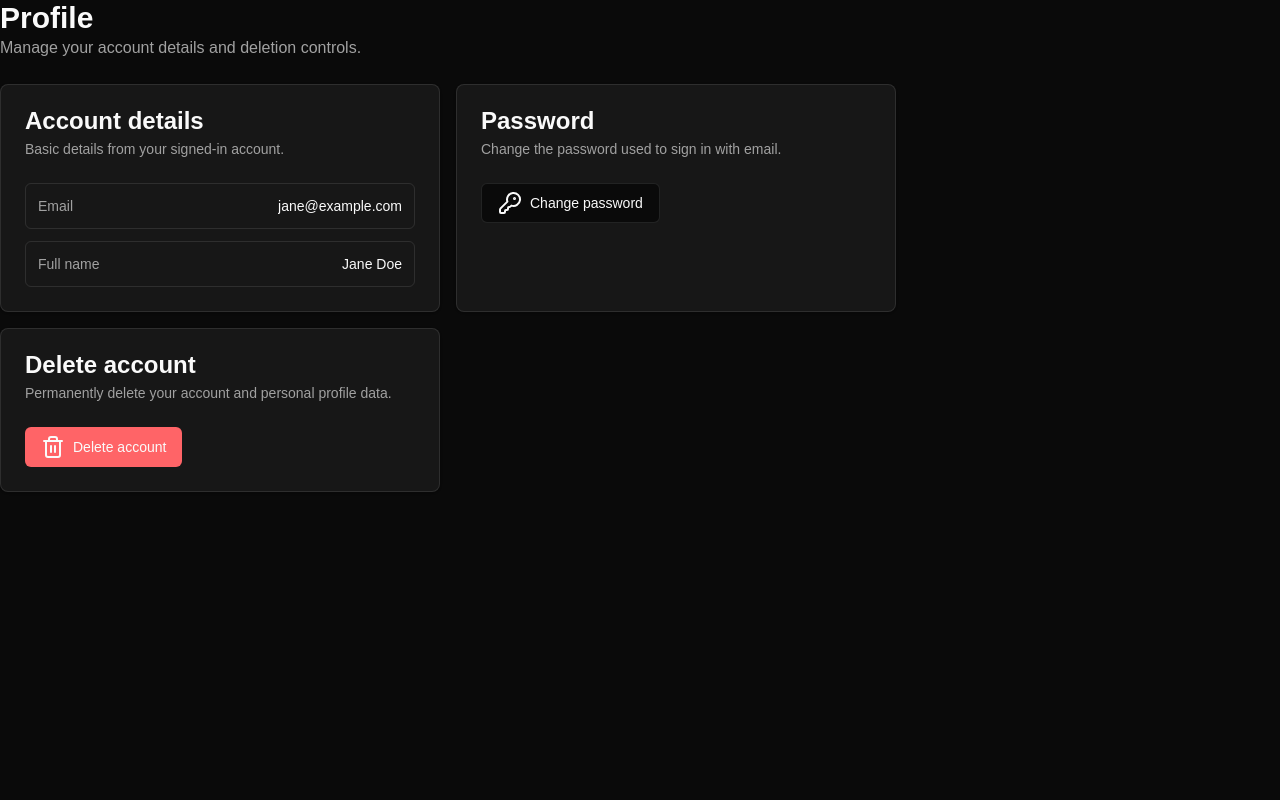
profile view › disables submit while deletion is pending
Step 1. Click the button "Delete account" → (104, 447), box [25, 427, 182, 467]
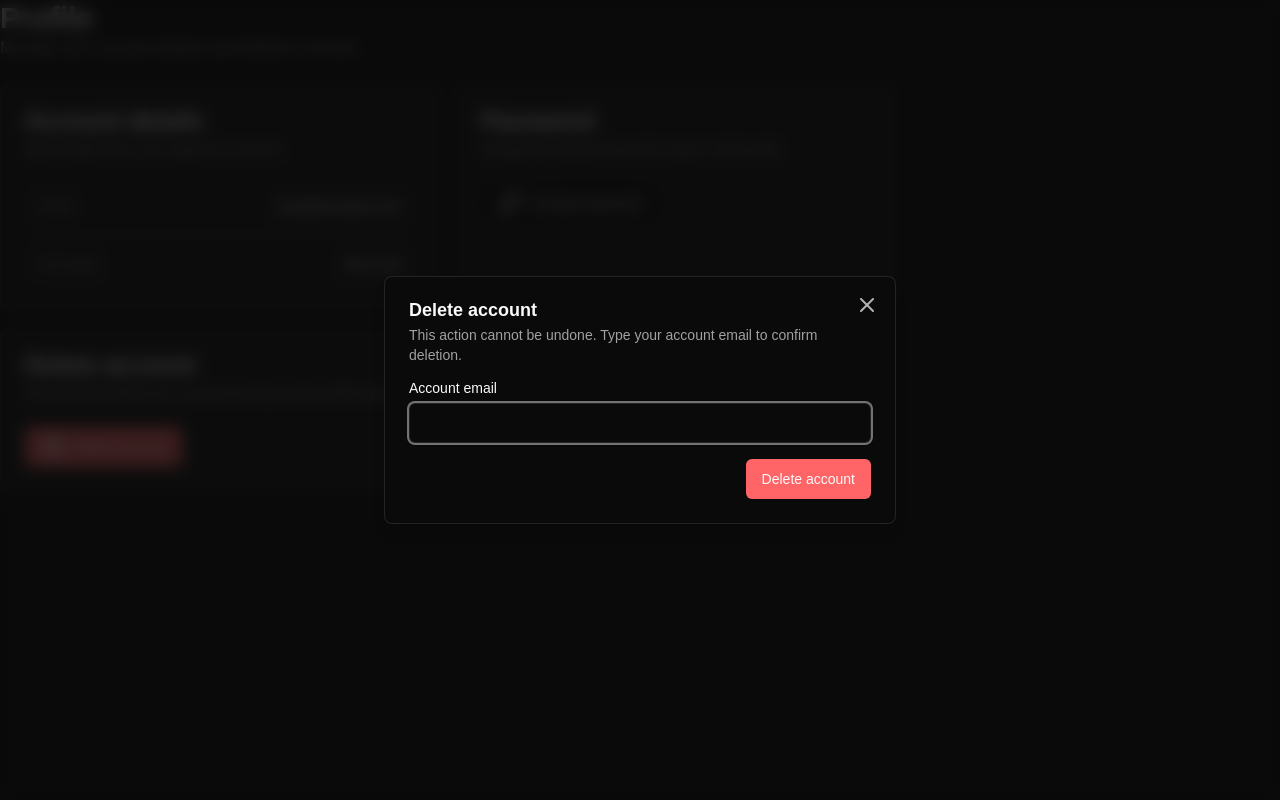
Step 2. Type "jane@example.com" into the field labelled "Account email" → (640, 423), box [409, 403, 871, 443]
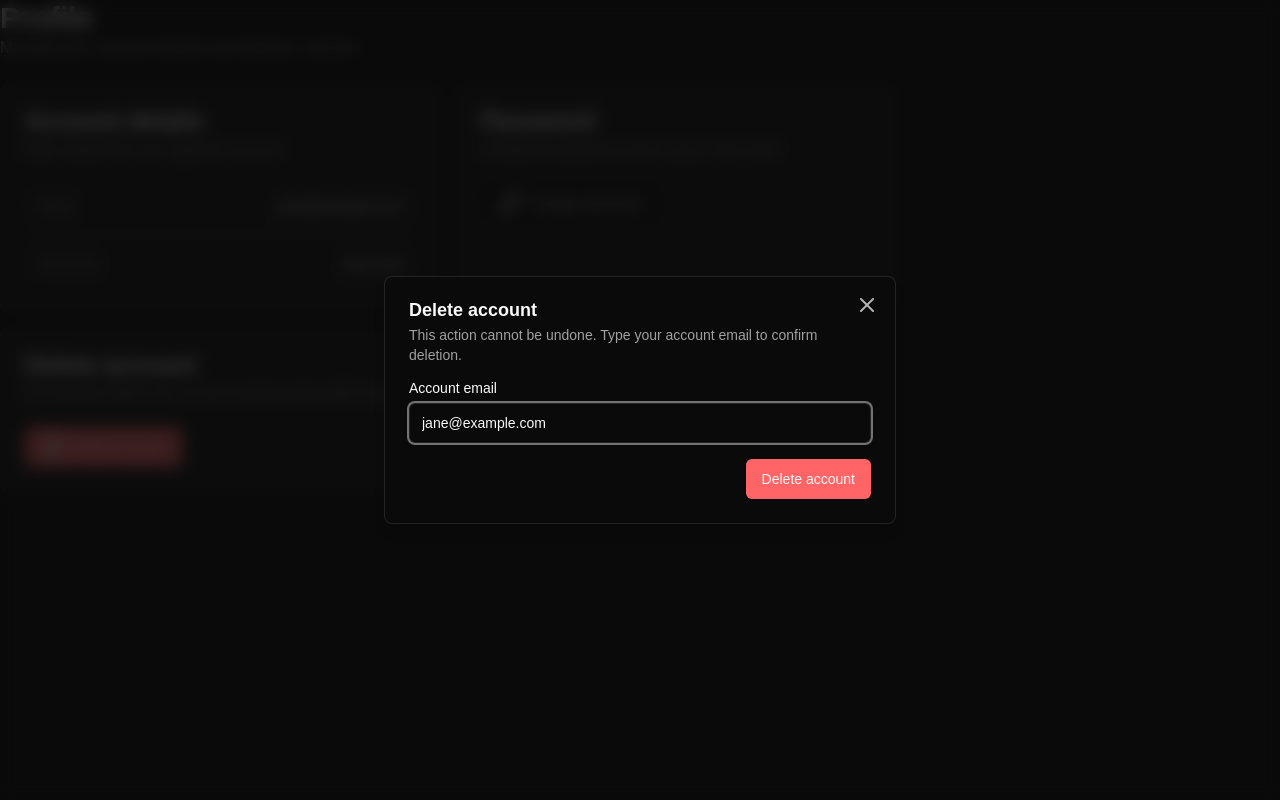
Step 3. Click the button "Delete account" → (808, 479), box [746, 459, 871, 499]
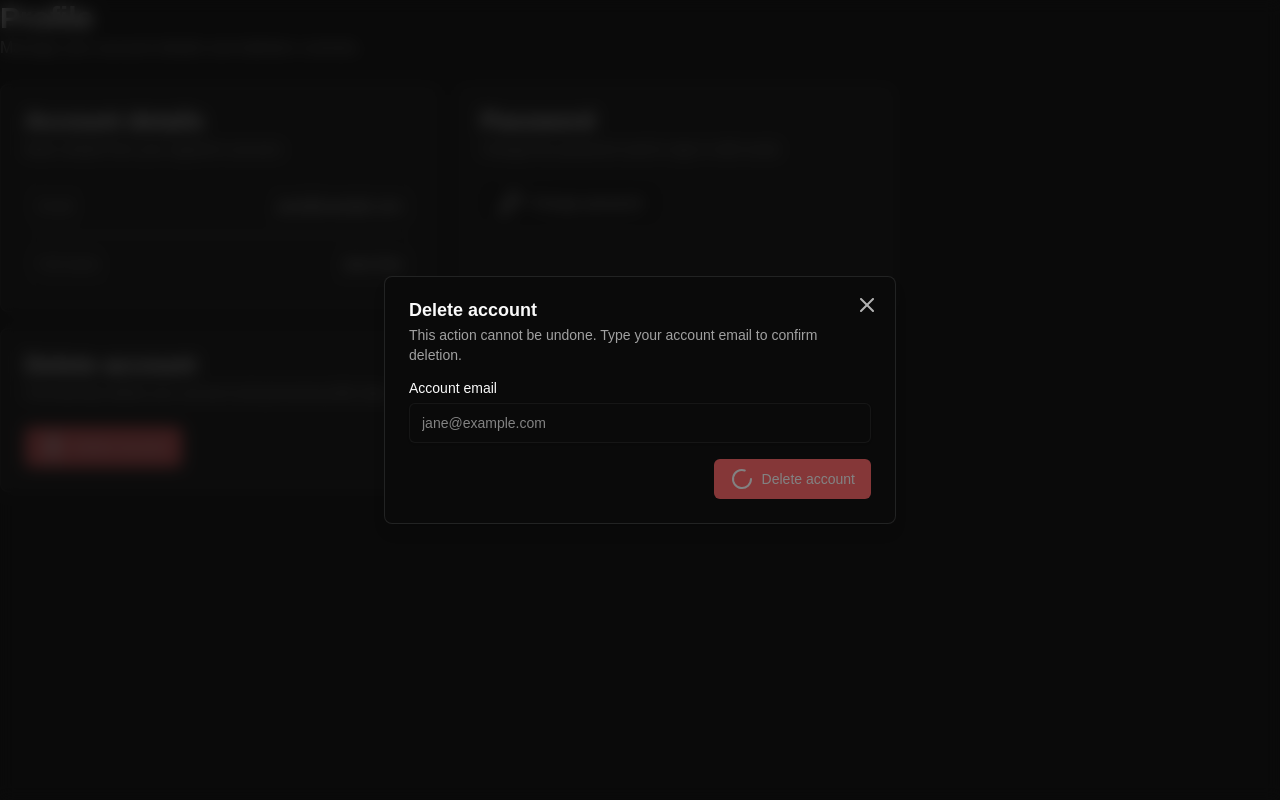
Result: the button "Delete account" is disabled at [714, 459, 871, 499]
